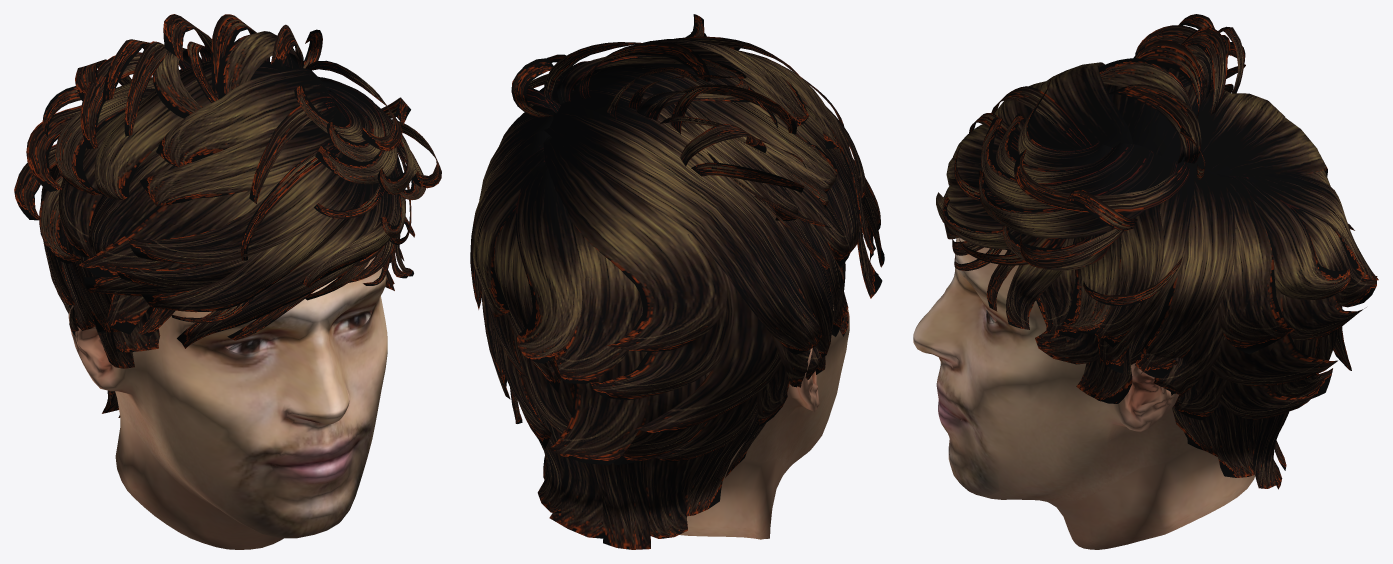
File: prakash.glb
3 views of the same model, side by side, from view 1: azimuth 30°, elevation 25°; view 2: azimuth 150°, elevation 25°; view 3: azimuth 270°, elevation 25° (orthographic). The views are drawn at different scales.
Parts seen in each view (by area): view 1: model.002; view 2: model.002; view 3: model.002.
Boxes of the visible parts, bbox=[...] form: model.002: bbox=[14, 14, 441, 549]; model.002: bbox=[470, 14, 884, 549]; model.002: bbox=[913, 14, 1378, 549].
Size of the model in its own units: 0.6847 by 0.9216 by 0.7856.
Materials: 1 (1 with a texture image).
